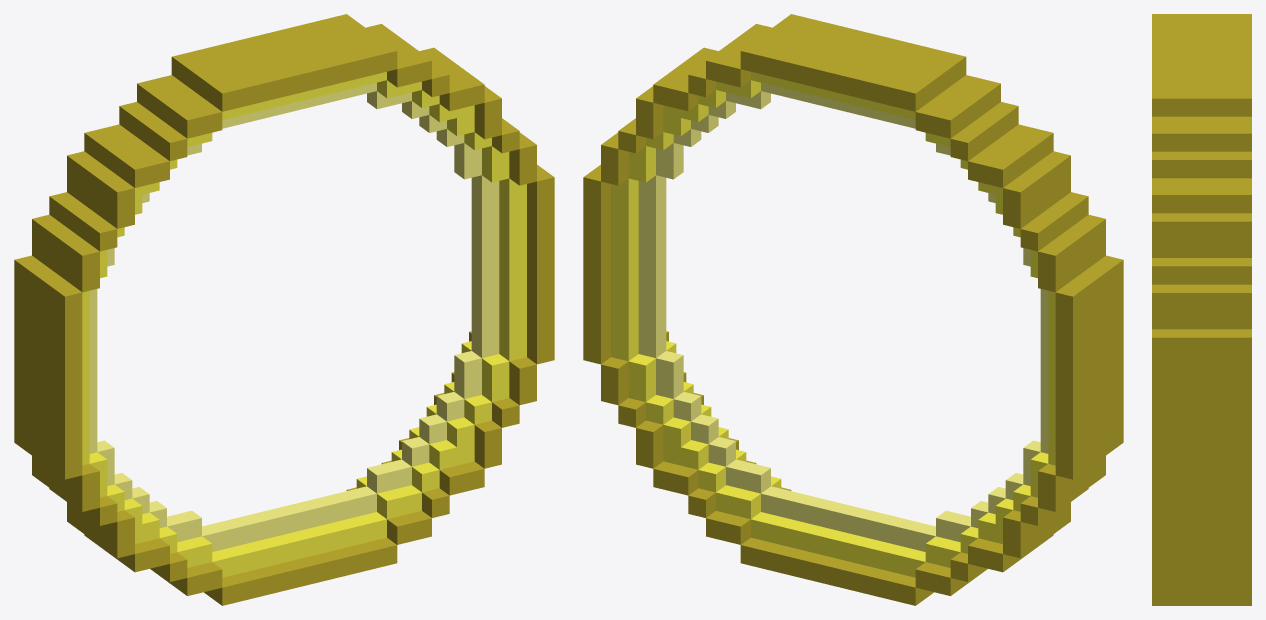
The model's file is Ring.glb.
The picture shows the model from 3 angles, left to right: view 1: azimuth 30°, elevation 25°; view 2: azimuth 150°, elevation 25°; view 3: azimuth 270°, elevation 25°; orthographic projection.
Visible parts, largest first — view 1: Ring-Mesh; view 2: Ring-Mesh; view 3: Ring-Mesh.
Part boxes in pixels (x1,y1,x2,y2): Ring-Mesh: [14, 14, 554, 605]; Ring-Mesh: [583, 14, 1123, 605]; Ring-Mesh: [1152, 14, 1251, 605].
Bounding box in the file's own units: 28 × 28 × 5.
1 material, 1 textured.
